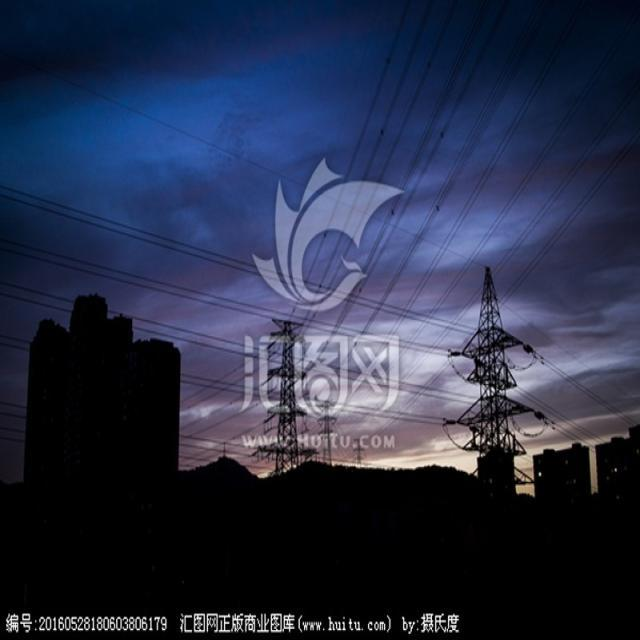non-critical vegetation: (248, 277, 330, 478), (457, 257, 529, 471)
